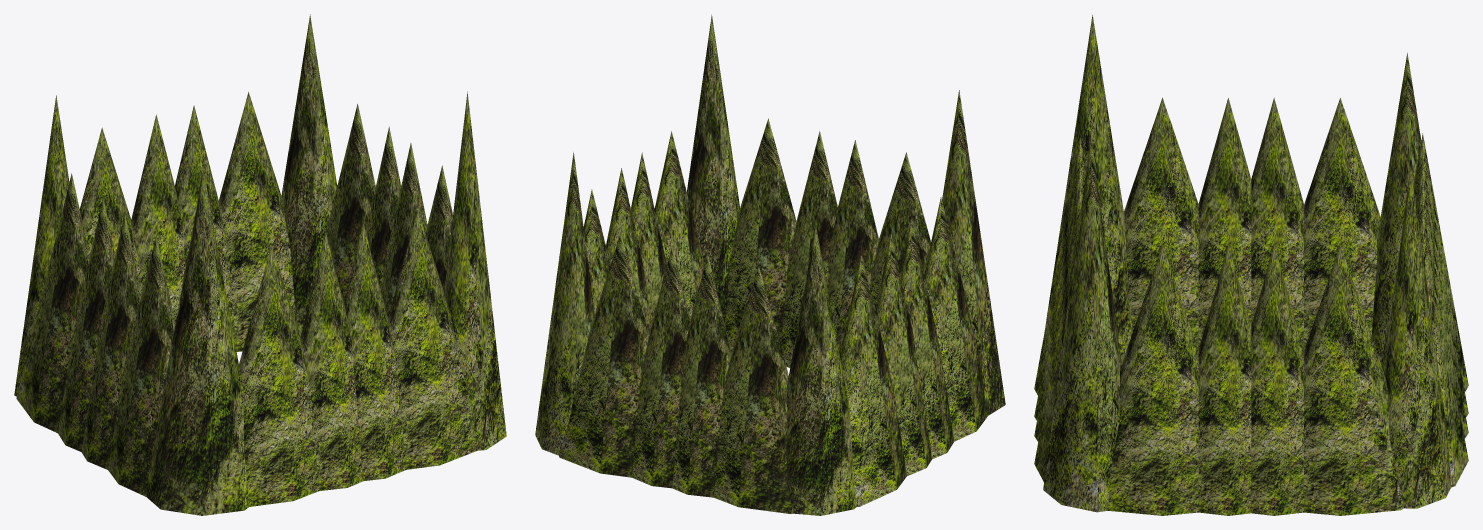
File: wall.fbx
The picture shows the model from 3 angles, left to right: view 1: azimuth 30°, elevation 25°; view 2: azimuth 150°, elevation 25°; view 3: azimuth 270°, elevation 25°; orthographic projection. The views are drawn at different scales.
Parts seen in each view (by area): view 1: Cone017, Cone001, Cone004, Cone020, Cone005, Cone002, Cone003, Cone019, Cone016, Cone014, Cone015, Cone013 (+8 smaller); view 2: Cone018, Cone008, Cone005, Cone014, Cone007, Cone004, Cone019, Cone020, Cone006, Cone016, Cone017, Cone013 (+8 smaller); view 3: Cone010, Cone012, Cone020, Cone019, Cone011, Cone009, Cone014, Cone016, Cone015, Cone013, Cone017, Cone018 (+8 smaller).
Boxes of the visible parts, x1,y1,x2,y2 form: Cone017: (146,170,249,515); Cone001: (239,245,318,506); Cone004: (388,210,477,469); Cone020: (444,91,506,450); Cone005: (219,92,296,351); Cone002: (300,232,363,490); Cone003: (344,223,405,481); Cone019: (281,14,337,336); Cone016: (108,235,175,496); Cone014: (16,173,89,433); Cone015: (81,212,141,469); Cone013: (58,197,115,451); Cone018: (787,225,855,515); Cone008: (714,266,793,513); Cone005: (559,232,648,477); Cone014: (839,255,906,506); Cone007: (672,253,731,497); Cone004: (725,118,796,352); Cone019: (535,152,594,455); Cone020: (687,14,739,327); Cone006: (632,245,690,488); Cone016: (924,197,988,441); Cone017: (942,90,1005,415); Cone013: (875,233,931,475); Cone010: (1304,244,1403,515); Cone012: (1108,244,1198,515); Cone020: (1043,134,1121,512); Cone019: (1383,166,1451,508); Cone011: (1198,244,1251,515); Cone009: (1251,244,1303,515); Cone014: (1304,98,1380,350); Cone016: (1124,97,1198,350); Cone015: (1198,98,1251,349); Cone013: (1251,97,1303,349); Cone017: (1044,15,1132,363); Cone018: (1371,52,1421,363).
Size of the model in its own units: 17132 by 16961 by 15452.
20 materials, 20 textured.
